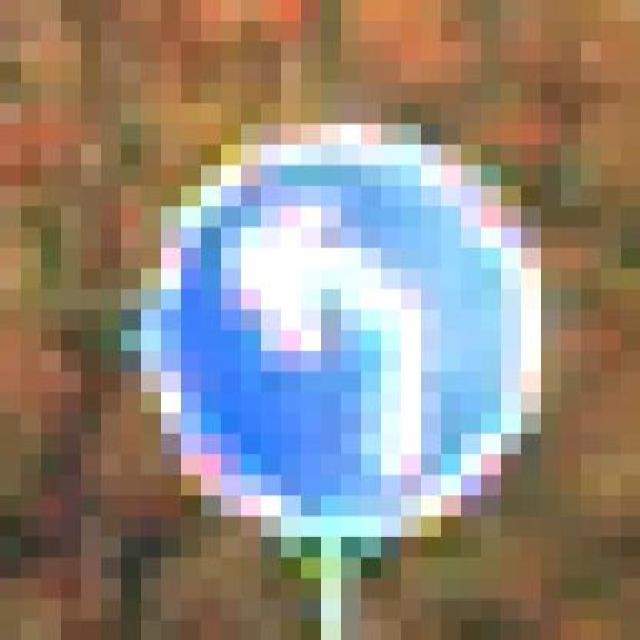Turn left ahead: (100, 124, 600, 578)
